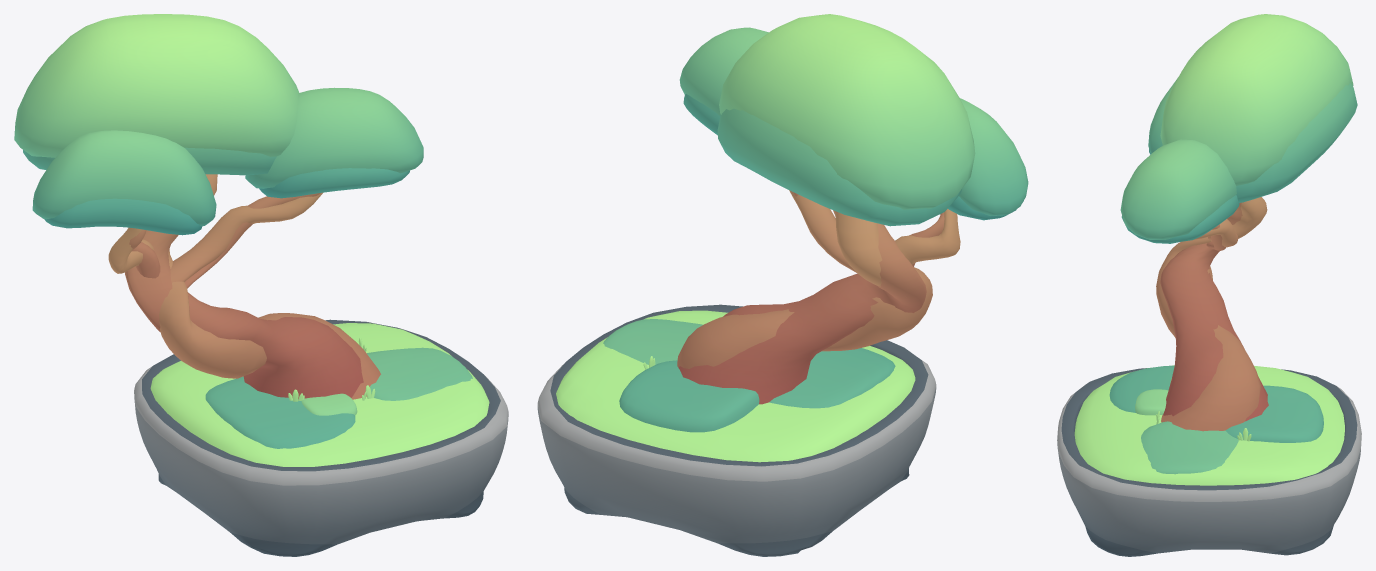
The model's file is tree.glb.
3 views of the same model, side by side, from view 1: azimuth 30°, elevation 25°; view 2: azimuth 150°, elevation 25°; view 3: azimuth 270°, elevation 25° (orthographic). The views are drawn at different scales.
Parts seen in each view (by area): view 1: Tree, Pot; view 2: Tree, Pot; view 3: Tree, Pot.
Boxes of the visible parts, x1=… form: Tree: x1=14, y1=14, x2=489, y2=466; Pot: x1=134, y1=319, x2=508, y2=556; Tree: x1=556, y1=14, x2=1028, y2=462; Pot: x1=537, y1=304, x2=936, y2=556; Tree: x1=1074, y1=14, x2=1357, y2=485; Pot: x1=1057, y1=368, x2=1361, y2=556.
Size of the model in its own units: 0.1029 by 0.1108 by 0.0725.
Materials: 1 (1 with a texture image).
